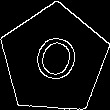O_S: (26, 28, 82, 91)
